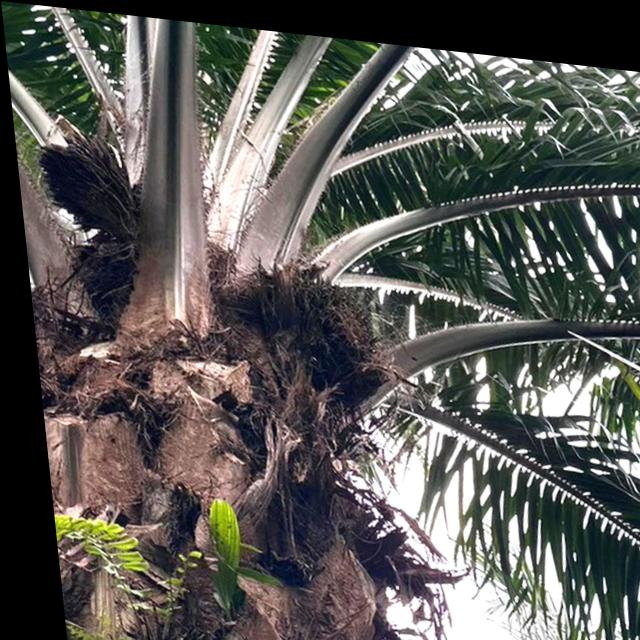unripe: (255, 251, 389, 380)
